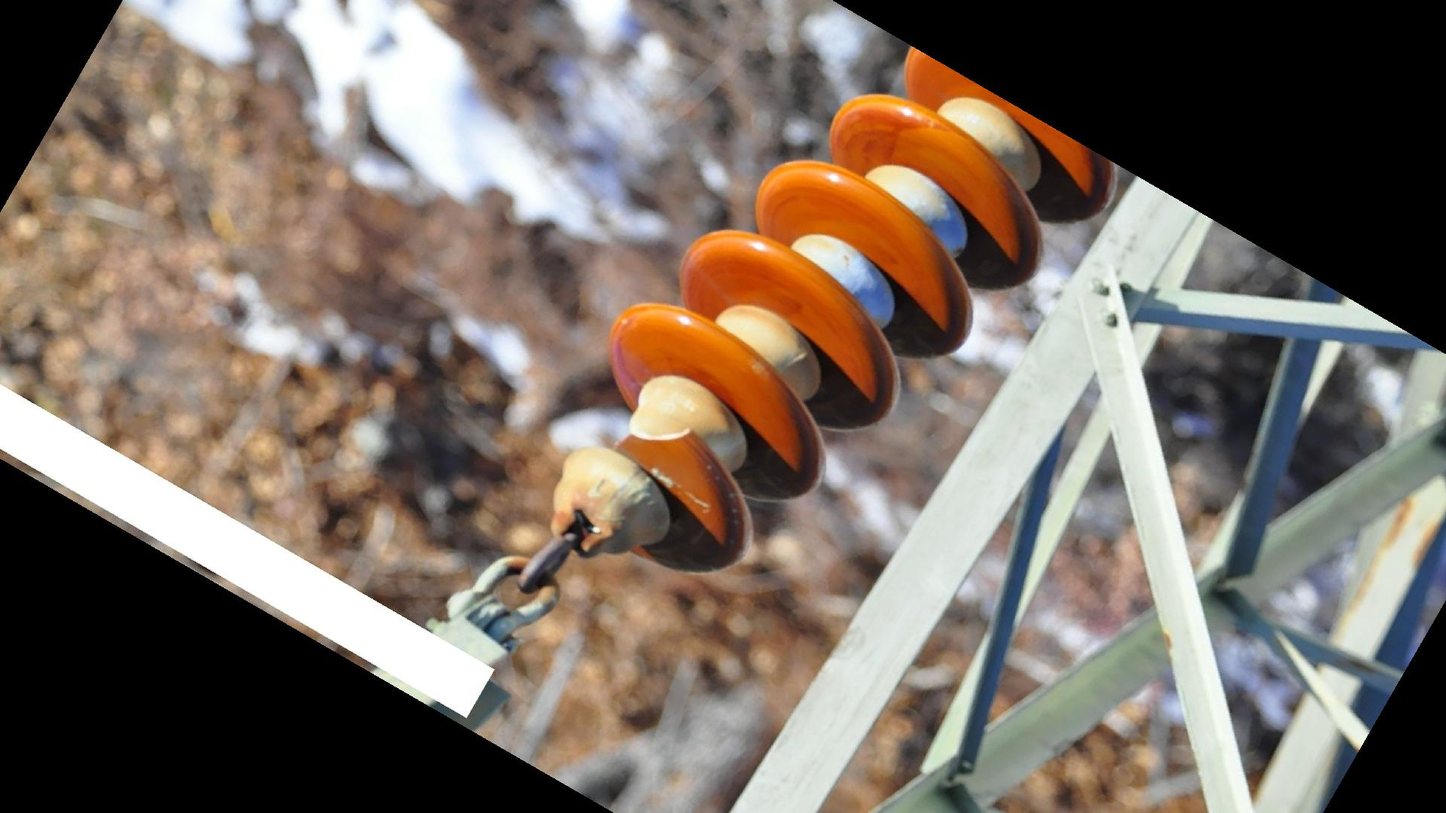insulator: (595, 35, 1126, 580)
insulator_breakage: (607, 417, 708, 455)
